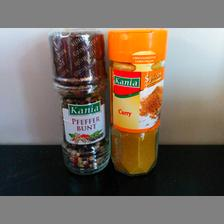Gewuerze: (107, 28, 167, 174), (48, 31, 108, 174)
